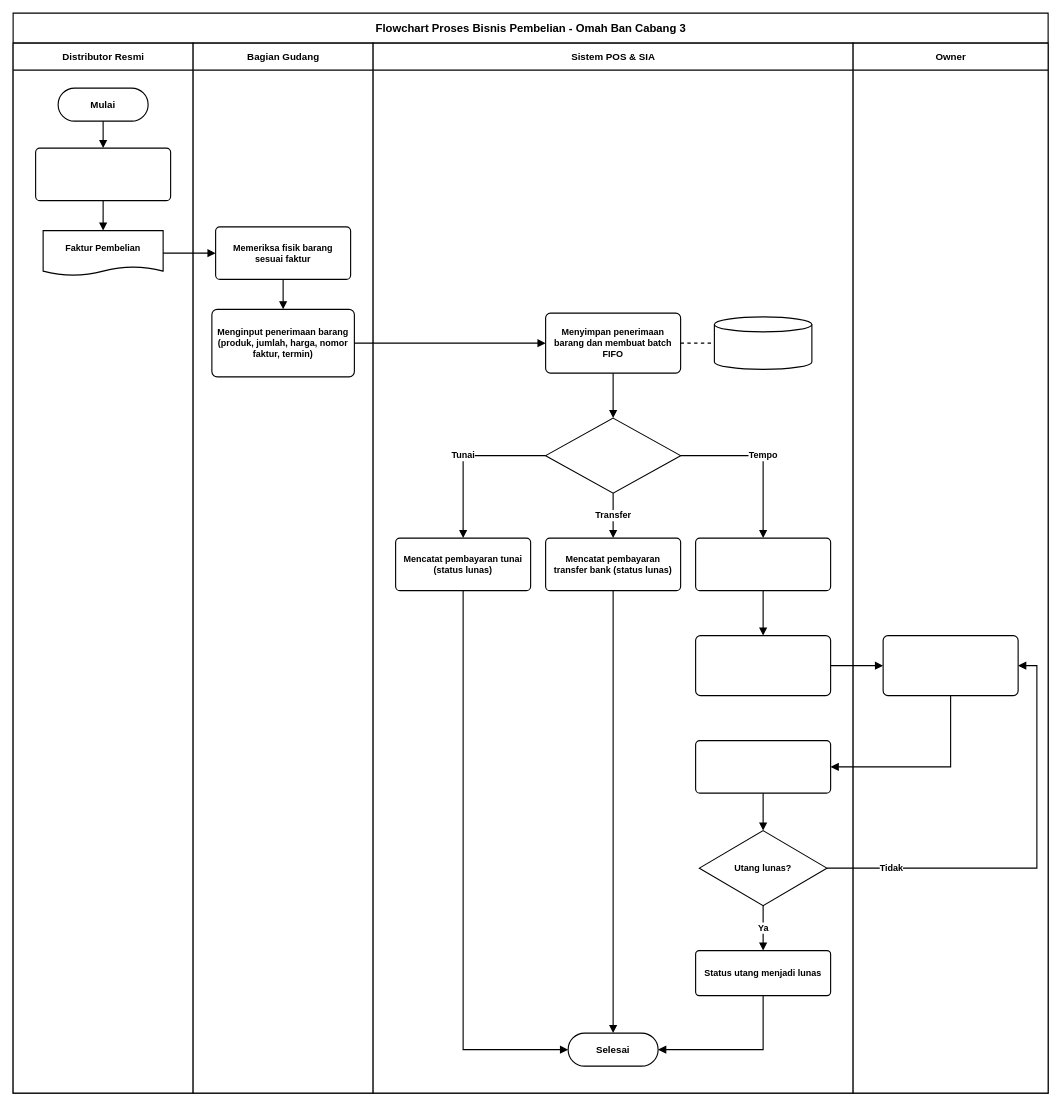
The diagram is 1062 pixels wide and 1107 high, and some of its shapes have lost their labels. Here are the shapes that lost their labels. From the top down, the centre of each, then its label:
[103,174]: Mengirim barang dan faktur pembelian
[762,343]: Database Pembelian & Persediaan
[613,455]: Termin pembayaran?
[763,564]: Mencatat utang dagang (status belum lunas)
[763,665]: Mencatat ke Buku Pembantu Utang dan menampilkan jatuh tempo
[950,665]: Membayar utang ke distributor (sebagian / penuh)
[763,766]: Mencatat pembayaran utang
